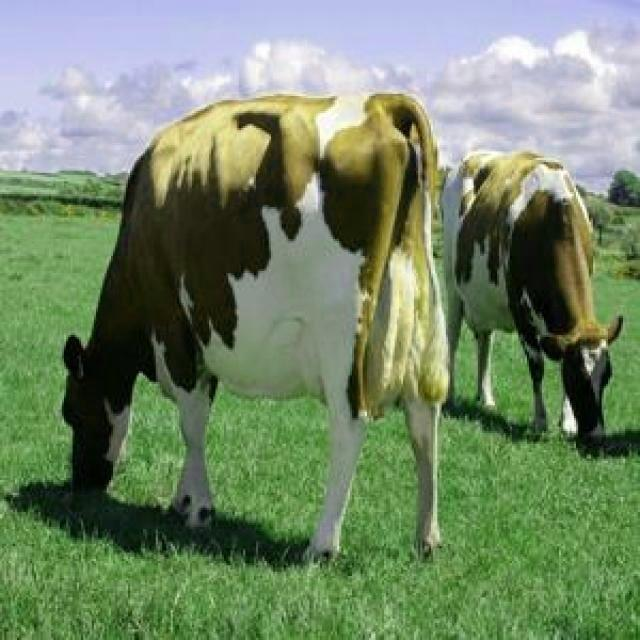cow: (62, 94, 449, 558), (442, 152, 622, 441)
